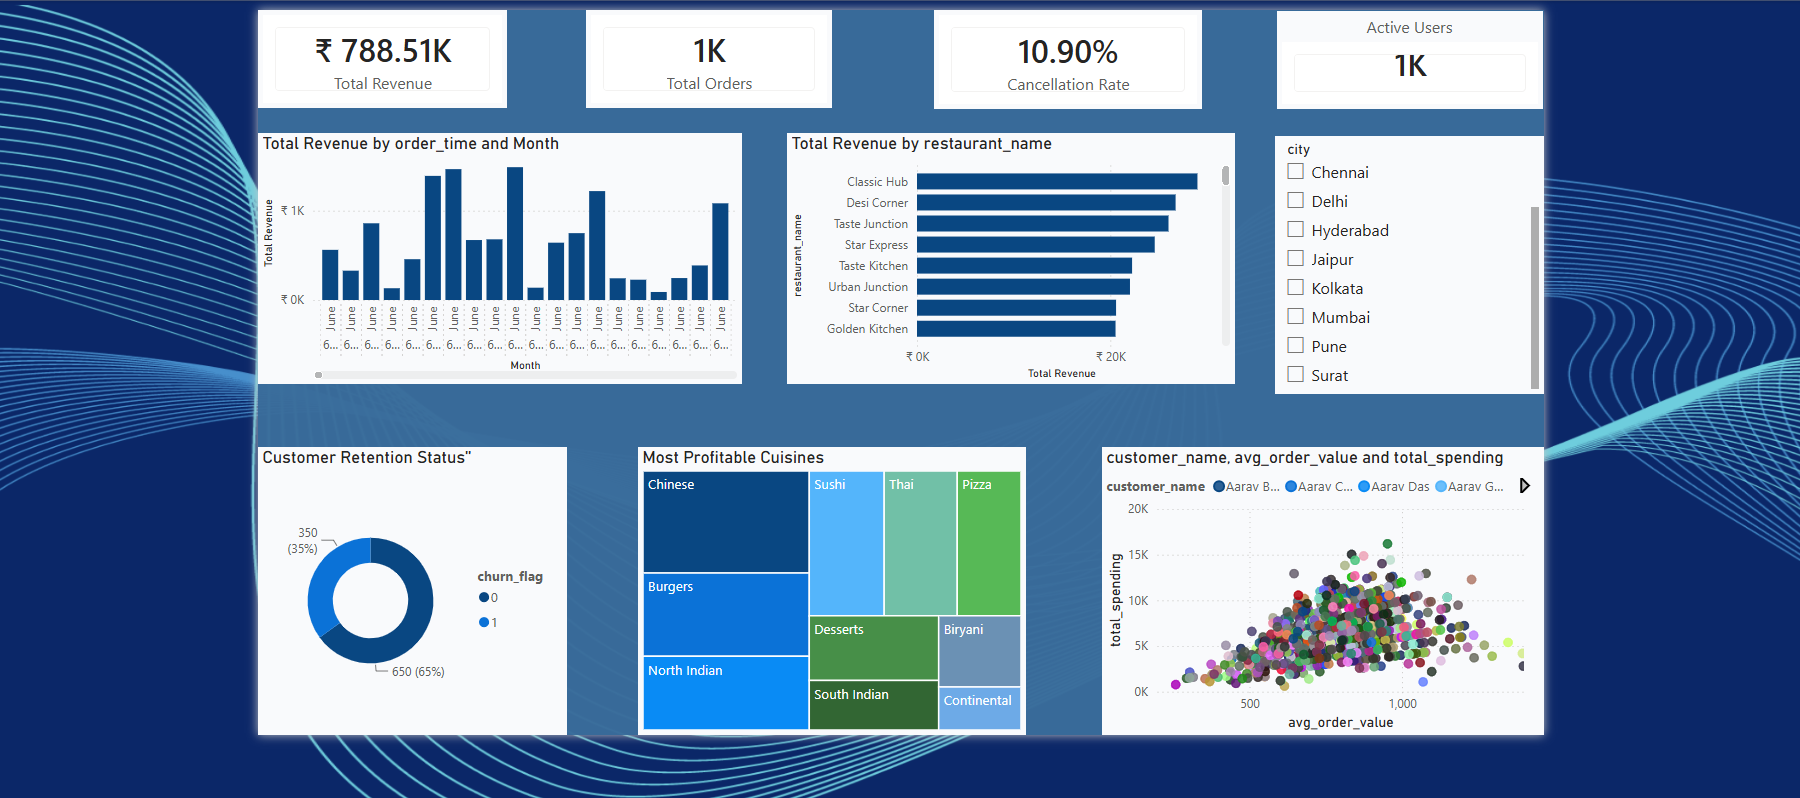

What the dashboard file says about the page in this screenshot:
{"tool":"powerbi","page":{"name":"Page 1","canvas":[1286,725],"ordinal":0},"visuals":[{"type":"cardVisual","fields":{"Data":["customer.Cancellation Rate"]},"box":[676,0,268,99],"z":0},{"type":"cardVisual","fields":{"Data":["customer.Total Orders"]},"box":[328,0,246,98],"z":1000},{"type":"cardVisual","fields":{"Data":["customer.Total Revenue"]},"box":[0,0,249,98],"z":2000},{"type":"clusteredBarChart","fields":{"Category":["restaurants.restaurant_name"],"Y":["customer.Total Revenue"]},"box":[529,123,448,251],"z":4000},{"type":"cardVisual","fields":{"Data":["customer.Order Volume: Order Volume"]},"box":[1020,0,266,110],"z":4001},{"type":"clusteredColumnChart","fields":{"Y":["customer.Total Revenue"],"Category":["orders.order_time","orders.order_time.Variation.Date Hierarchy.Month"]},"box":[0,123,484,251],"z":4002},{"type":"slicer","fields":{"Values":["restaurants.city"]},"box":[1017,126,269,258],"z":4003},{"type":"donutChart","title":"Customer Retention Status\"","fields":{"Category":["customer_behavior.churn_flag"],"Y":["CountNonNull(customer.customer_id)"]},"box":[0,437,309,288],"z":4004},{"type":"treemap","title":"Most Profitable Cuisines","fields":{"Group":["restaurants.cuisine_type"],"Values":["customer.Total Revenue"]},"box":[380,437,388,288],"z":4005},{"type":"scatterChart","fields":{"X":["customer_behavior.avg_order_value"],"Y":["customer_behavior.total_spending"],"Series":["customer.customer_name"]},"box":[844,437,442,288],"z":4006}]}

Visuals, with their boxes on the page's 1286x725 design canvas (x1, y1, x2, y2). These are canvas units, not pixel positions in the 1800x798 screenshot, which may show the page scaled, cropped or inside an application window:
cardVisual - customer.Cancellation Rate: box=[676, 0, 944, 99]
cardVisual - customer.Total Orders: box=[328, 0, 574, 98]
cardVisual - customer.Total Revenue: box=[0, 0, 249, 98]
clusteredBarChart - restaurants.restaurant_name x customer.Total Revenue: box=[529, 123, 977, 374]
cardVisual - customer.Order Volume: Order Volume: box=[1020, 0, 1286, 110]
clusteredColumnChart - customer.Total Revenue x orders.order_time: box=[0, 123, 484, 374]
slicer - restaurants.city: box=[1017, 126, 1286, 384]
"Customer Retention Status"" donutChart: box=[0, 437, 309, 725]
"Most Profitable Cuisines" treemap: box=[380, 437, 768, 725]
scatterChart - customer_behavior.avg_order_value x customer_behavior.total_spending: box=[844, 437, 1286, 725]
